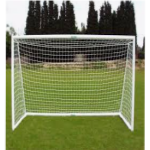goals: (9, 33, 137, 133)
